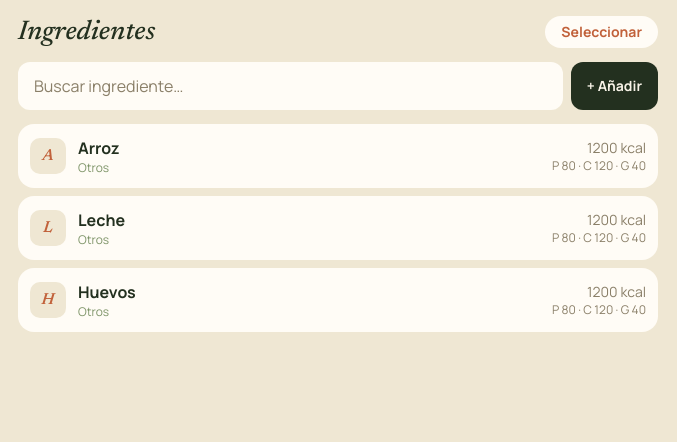
Test case: IngredientsPage › elimina solo los no usados e informa de los platos que bloquean el resto
Expected: the text "Arroz" is shown, [78,137,120,159]
Click the button "Seleccionar" at (602, 32), box [545,16,658,48]
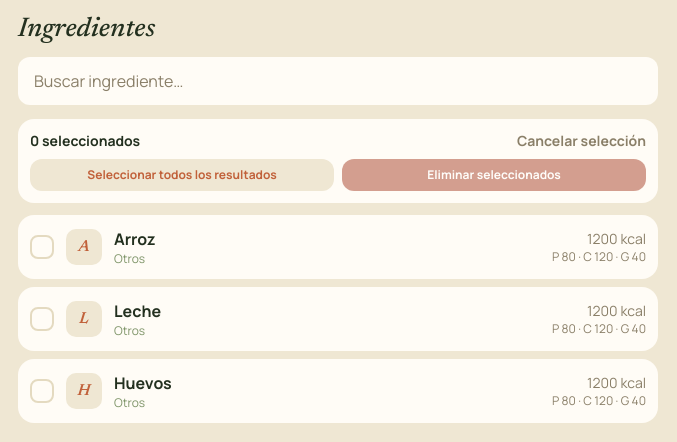
Click the button "Seleccionar todos los resultados" at (182, 175), box [30,159,334,191]
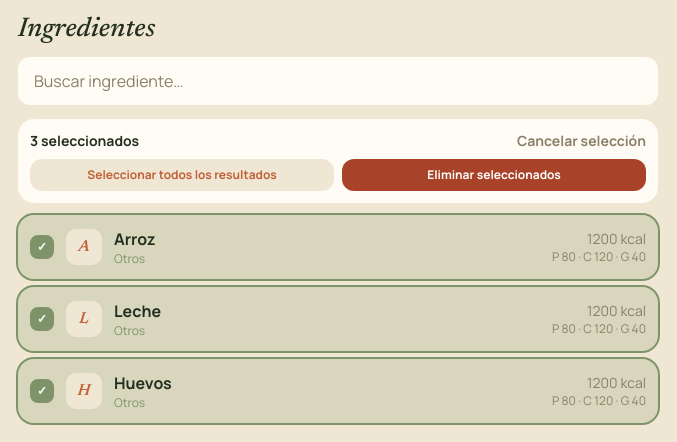
Click the button "Eliminar seleccionados" at (494, 175), box [342,159,646,191]
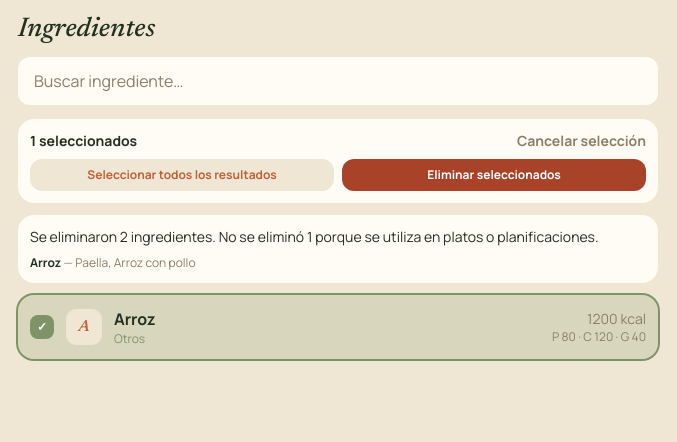
Now the text "Se eliminaron 2 ingredientes" is shown, box [30,227,216,246]
Now the list item "Arroz — Paella, Arroz con pollo" is shown, box [30,254,196,271]
Now the text "1 seleccionados" is shown, box [30,131,137,151]
